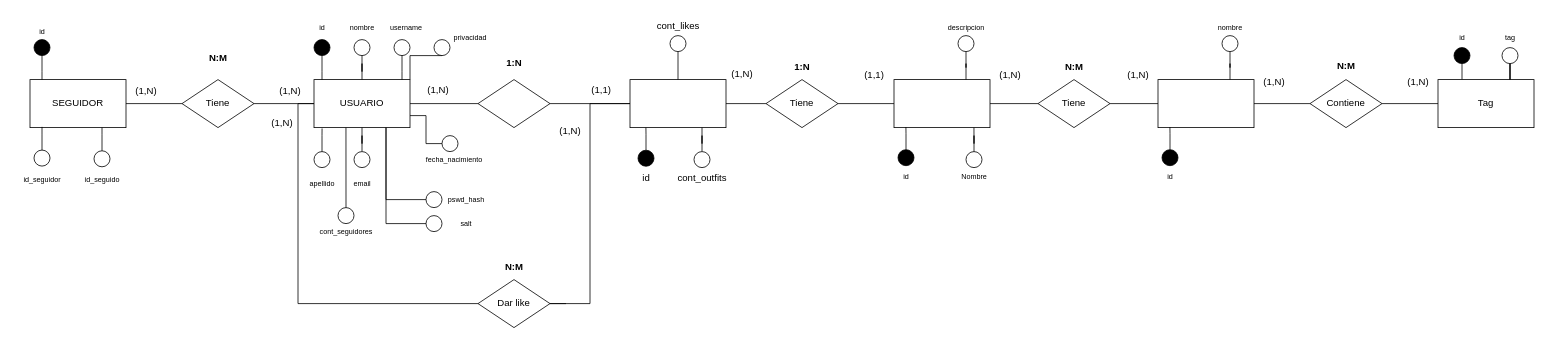
This 1548x342 diagram has some shape labels left out. The centre of each missing label's shape, as x and y in pixels:
"ARMARIO" belongs at point (677, 103).
"Crea" belongs at point (513, 103).
"OUTFIT" belongs at point (941, 103).
"Prenda" belongs at point (1205, 103).
